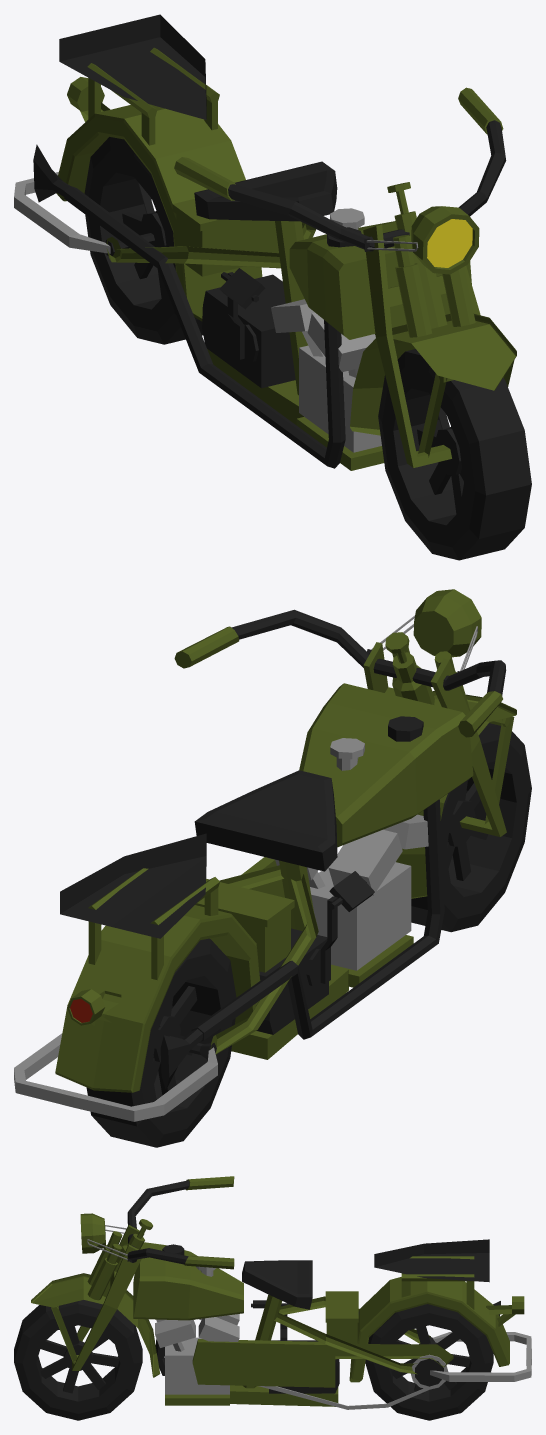
The model's file is military_motorbike.glb.
The picture shows the model from 3 angles, top to bottom: view 1: azimuth 30°, elevation 25°; view 2: azimuth 150°, elevation 25°; view 3: azimuth 270°, elevation 25°; orthographic projection. The views are drawn at different scales.
Parts seen in each view (by area): view 1: Motor_e5bb4a, Motor_e714db, Motor_b9c0f0, Motor_c956f9; view 2: Motor_e714db, Motor_e5bb4a, Motor_b9c0f0; view 3: Motor_e714db, Motor_e5bb4a, Motor_b9c0f0.
Boxes of the visible parts, <box> form: Motor_e5bb4a: <box>33,14,531,560</box>; Motor_e714db: <box>56,47,516,470</box>; Motor_b9c0f0: <box>14,172,418,452</box>; Motor_c956f9: <box>427,219,472,267</box>; Motor_e714db: <box>55,589,516,1092</box>; Motor_e5bb4a: <box>60,609,531,1147</box>; Motor_b9c0f0: <box>14,615,477,1121</box>; Motor_e714db: <box>31,1176,524,1406</box>; Motor_e5bb4a: <box>14,1180,500,1420</box>; Motor_b9c0f0: <box>87,1225,531,1409</box>.
Bounding box in the file's own units: 2.08 × 2.21 × 5.21.
